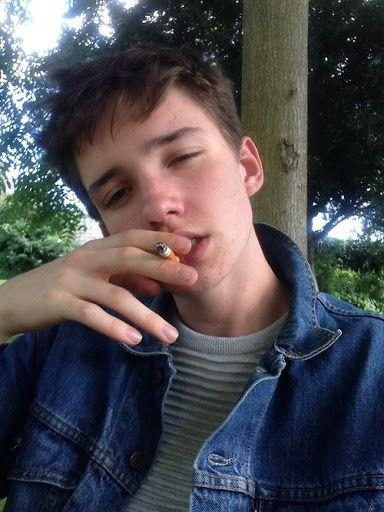cigarette: (154, 242, 180, 263)
